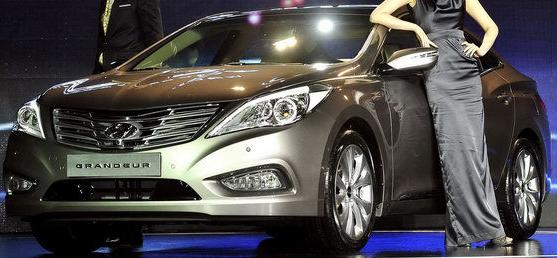front_view: (5, 82, 331, 226)
headlight: (206, 85, 333, 142)
